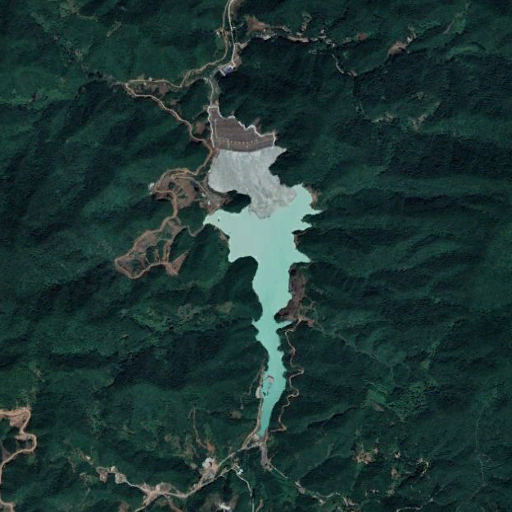tp: (202, 106, 322, 433)
